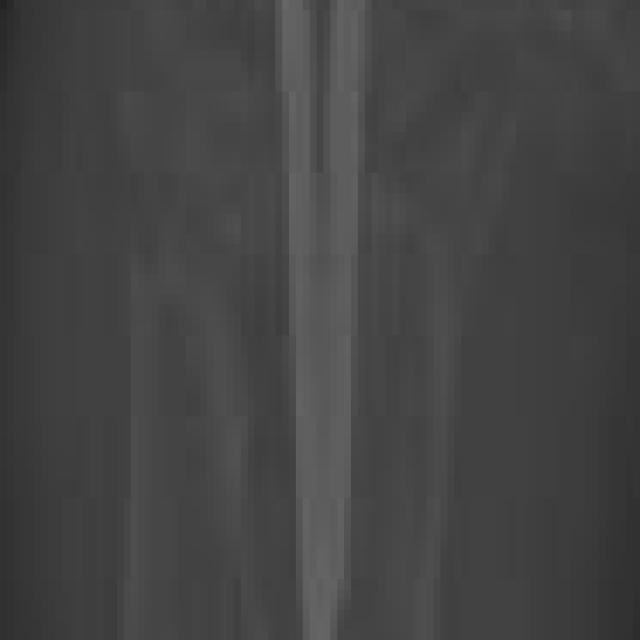fracture: (1, 2, 640, 640)
